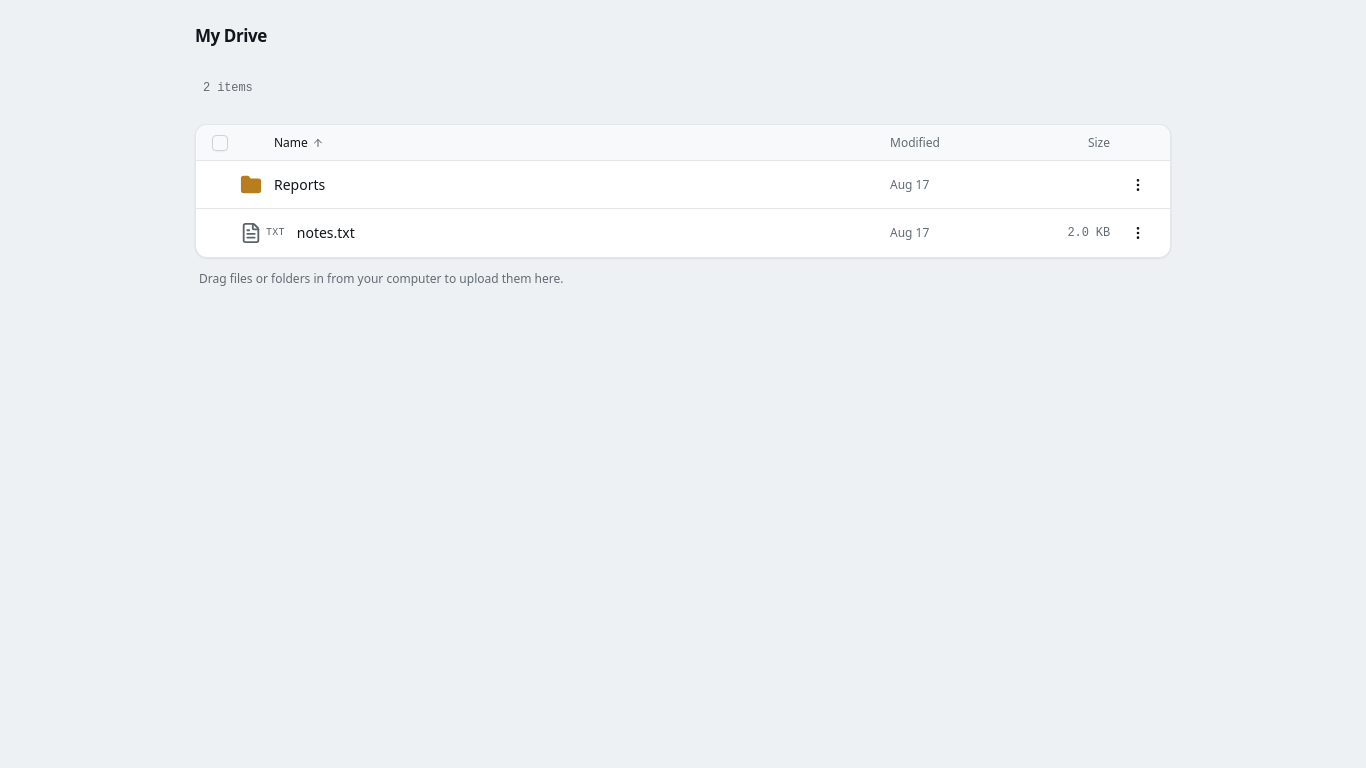
making a link › posts the four keys with the 7-day default, then shows the URL once with Copy
Expected: the link "notes.txt" is shown, [297, 223, 355, 242]
Click the button named "Actions for notes.txt" at (1138, 233), box [1122, 217, 1154, 249]
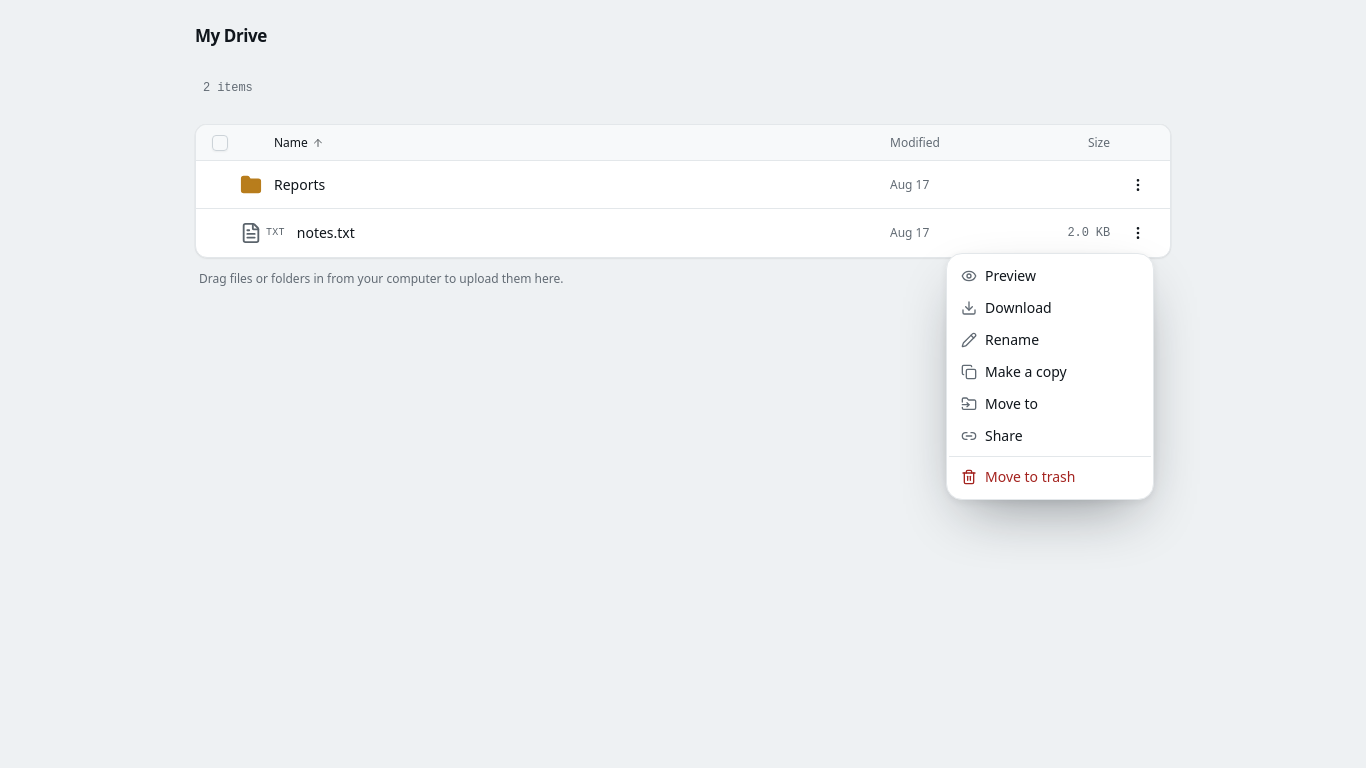
Click the menu item "Share" at (992, 436), box [961, 426, 1023, 445]
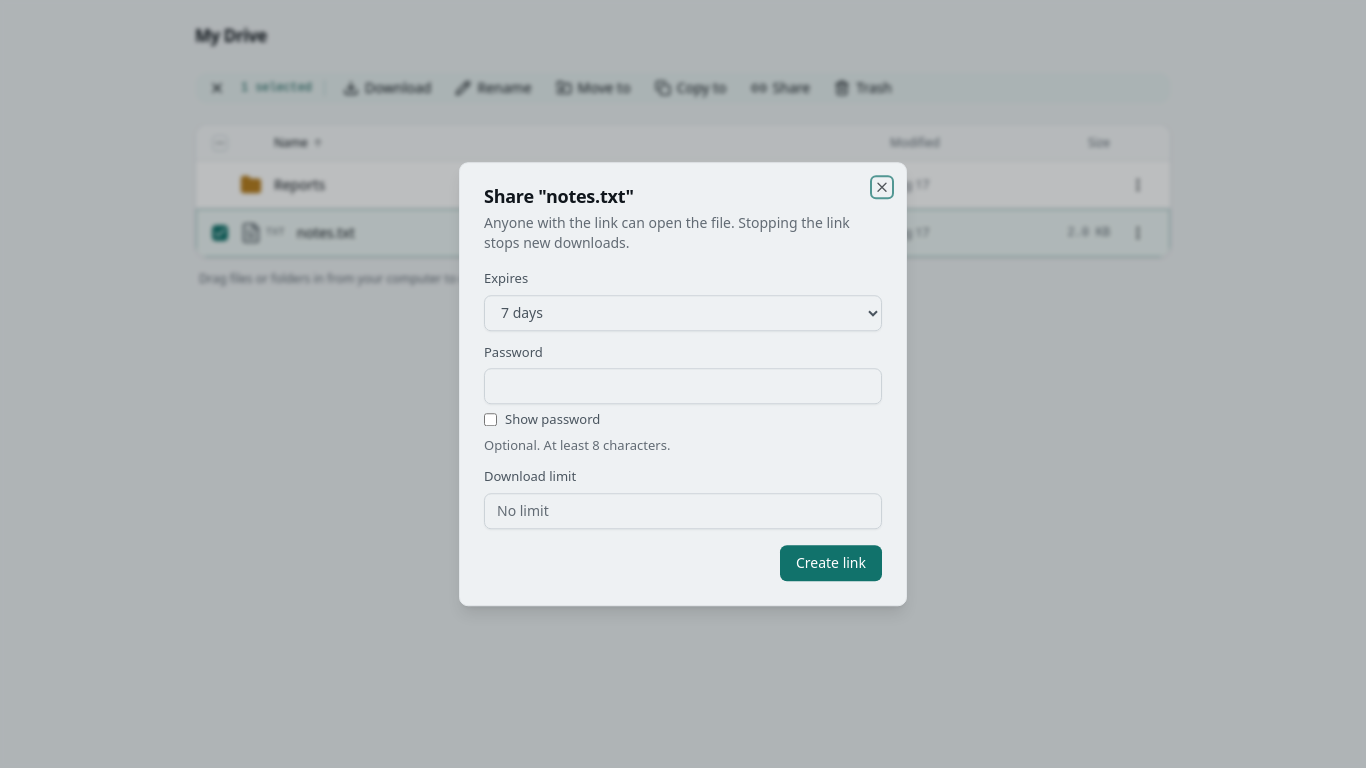
Now the dropdown labelled "Expires" shows "7 days", box [484, 295, 882, 331]
Click the button "Create link" at (831, 563), box [780, 545, 882, 581]
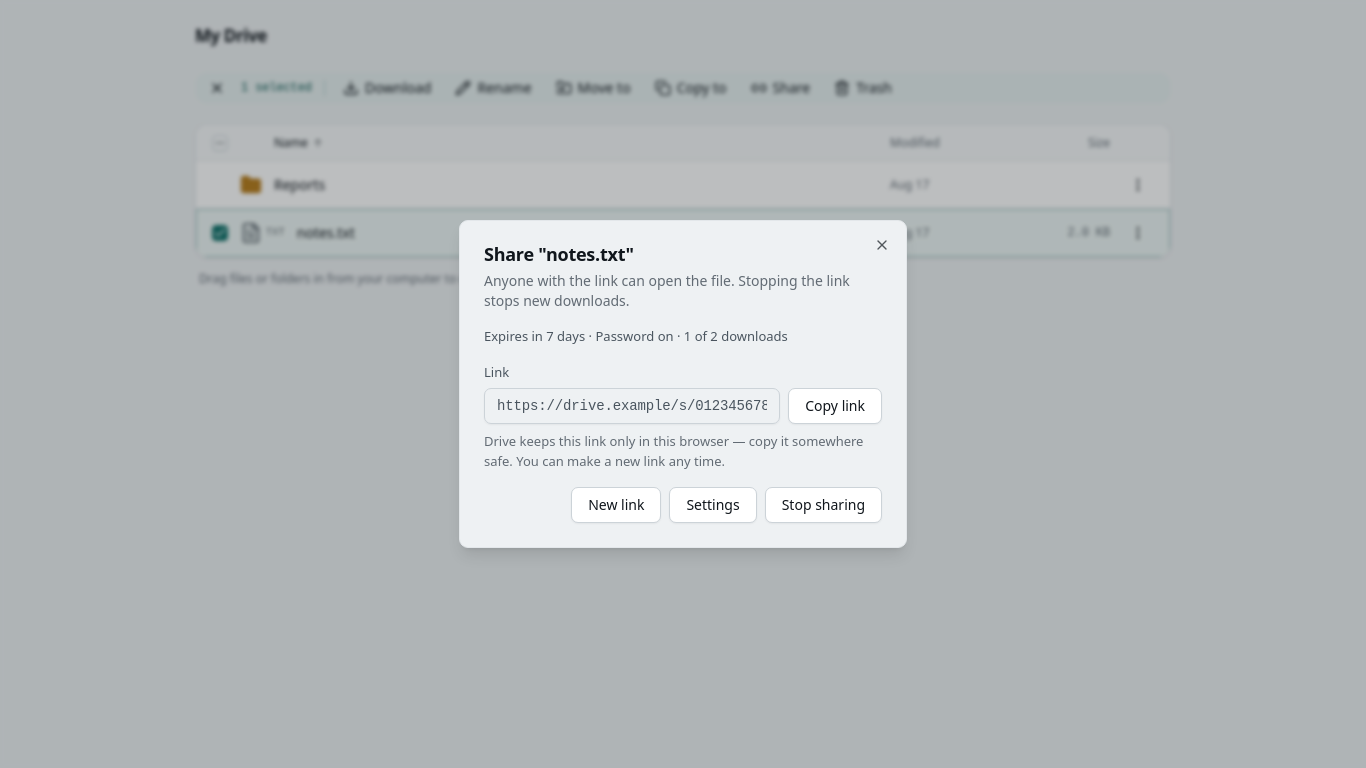
Now the field labelled "Link" holds "https://drive.example/s/0123456789abcdef0123456789abcdef0123456789a", box [484, 388, 780, 424]
Now the button "Copy link" is shown, box [788, 388, 882, 424]
Now the text "Drive keeps this link only in this browser — copy it somewhere safe. You can make a new link any time." is shown, box [484, 432, 864, 470]
